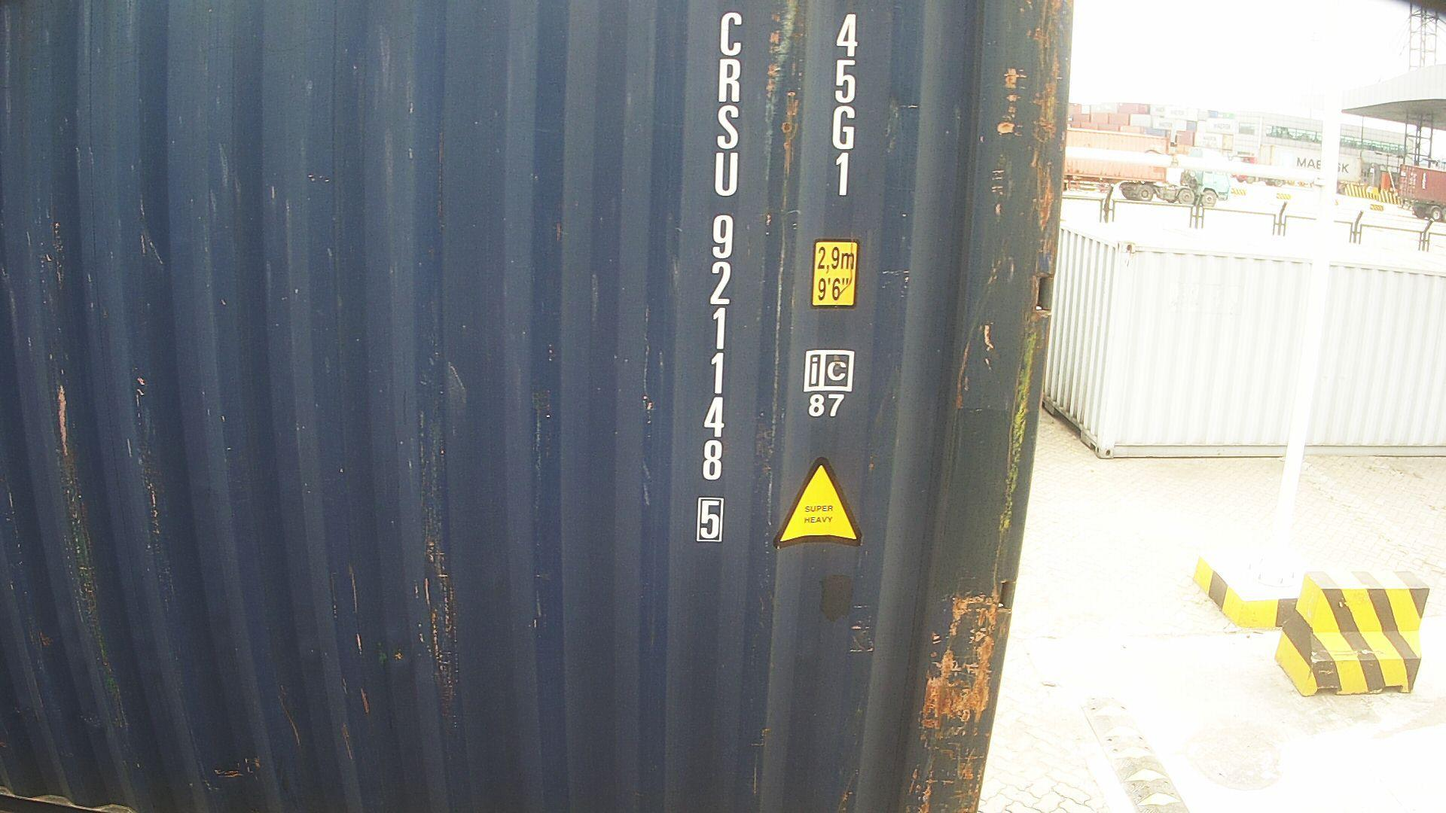container-numbers: (692, 5, 752, 552), (819, 6, 864, 206)
